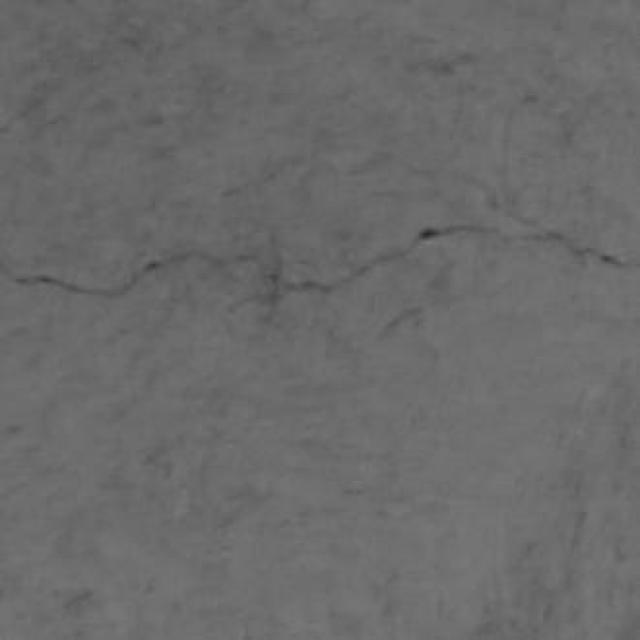crack: (0, 225, 639, 304), (0, 251, 257, 298)
